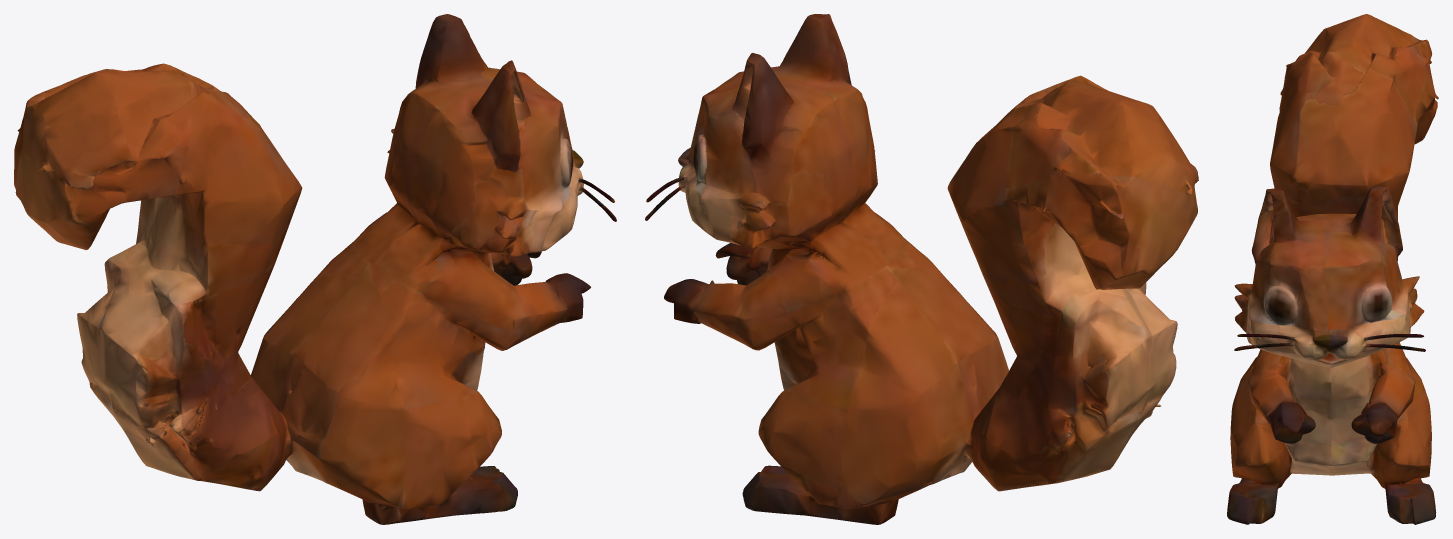
The model's file is squirrel_critter.glb.
3 renders of one model, left to right at view 1: azimuth 30°, elevation 25°; view 2: azimuth 150°, elevation 25°; view 3: azimuth 270°, elevation 25°, orthographic. The views are drawn at different scales.
Visible parts, largest first — view 1: tripo_node_8946b6db-e53f-451e-81b3-36a77d51fd11; view 2: tripo_node_8946b6db-e53f-451e-81b3-36a77d51fd11; view 3: tripo_node_8946b6db-e53f-451e-81b3-36a77d51fd11.
Part boxes in pixels (x1,y1,x2,y2): tripo_node_8946b6db-e53f-451e-81b3-36a77d51fd11: (14, 14, 616, 524); tripo_node_8946b6db-e53f-451e-81b3-36a77d51fd11: (645, 14, 1198, 524); tripo_node_8946b6db-e53f-451e-81b3-36a77d51fd11: (1227, 14, 1438, 524).
Size of the model in its own units: 0.9999 by 0.8374 by 0.4297.
Materials: 1 (1 with a texture image).
